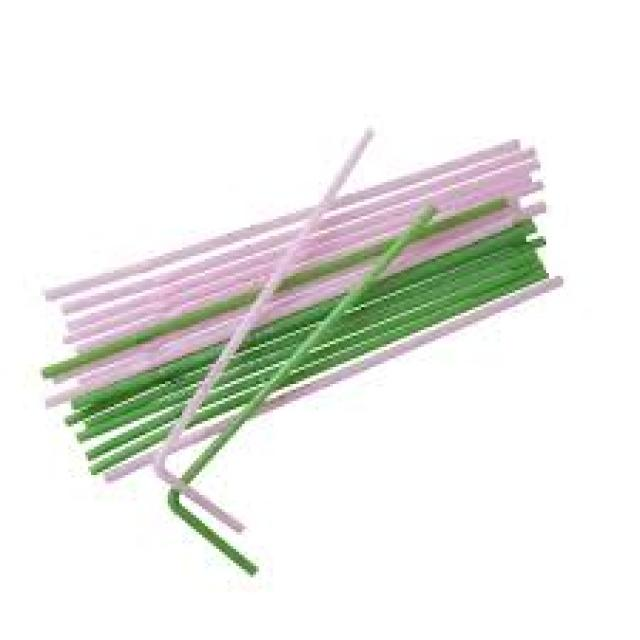plastic: (147, 59, 392, 540)
